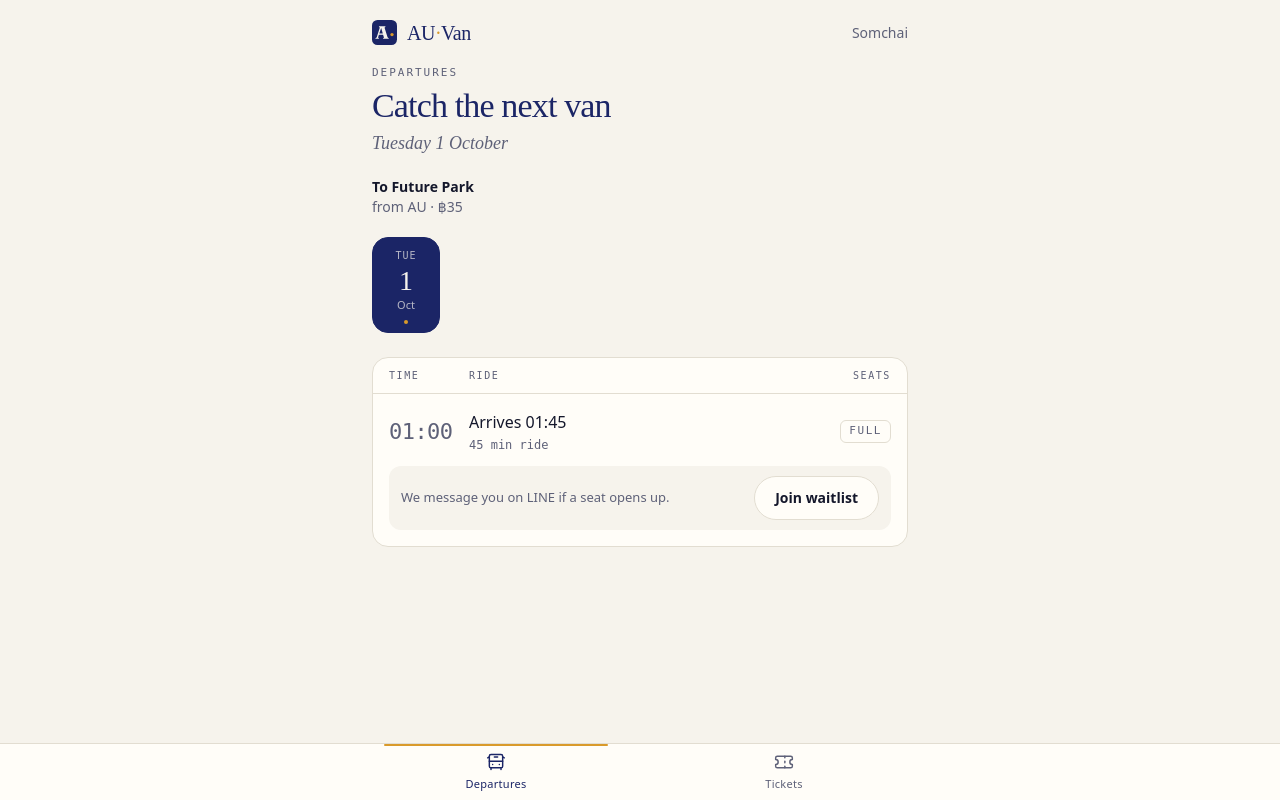
Student app waitlist › reports a failed join without pretending the student is queued
This screenshot has width=1280, height=800.
Click the button "Join waitlist": (817, 498) top-left (754, 476), bottom-right (879, 520)
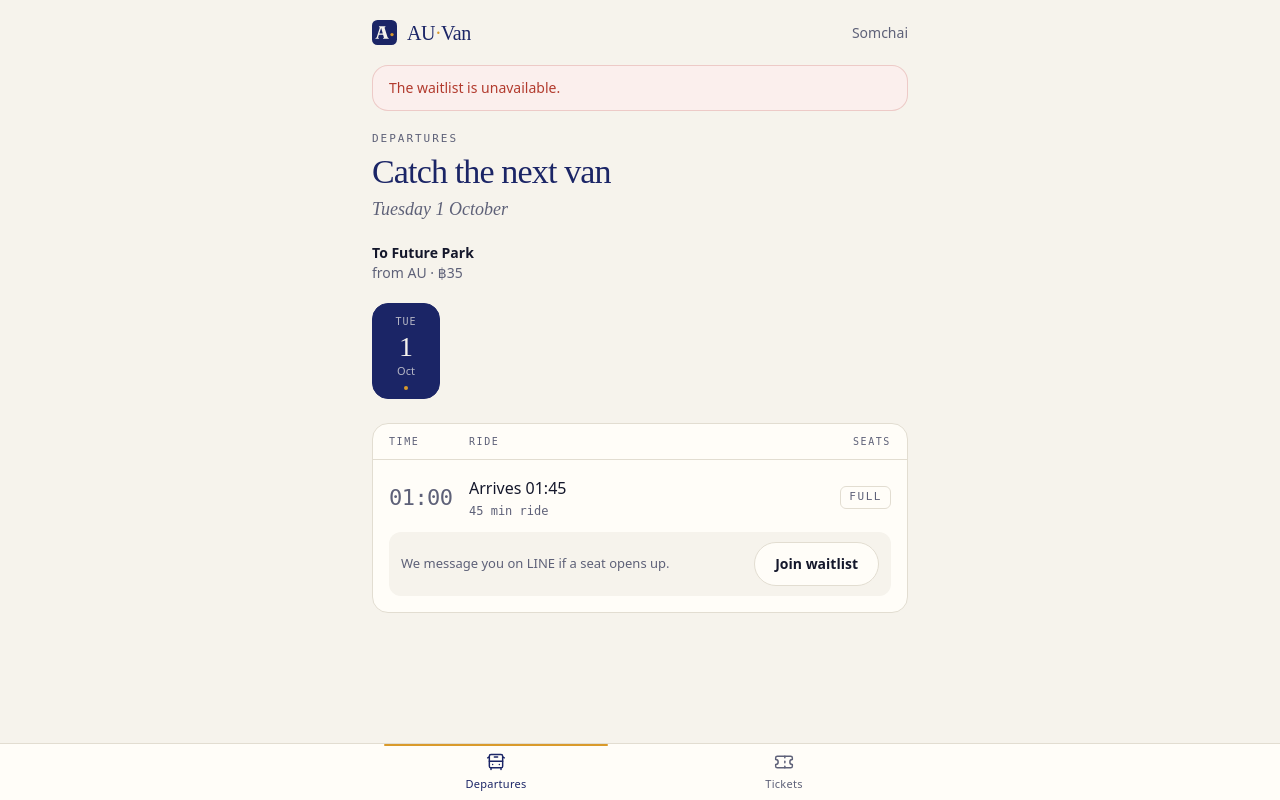
Expected: the button "Join waitlist" is shown, top-left (754, 542), bottom-right (879, 586)
Expected: the text "The waitlist is unavailable." is shown, top-left (372, 65), bottom-right (908, 111)
